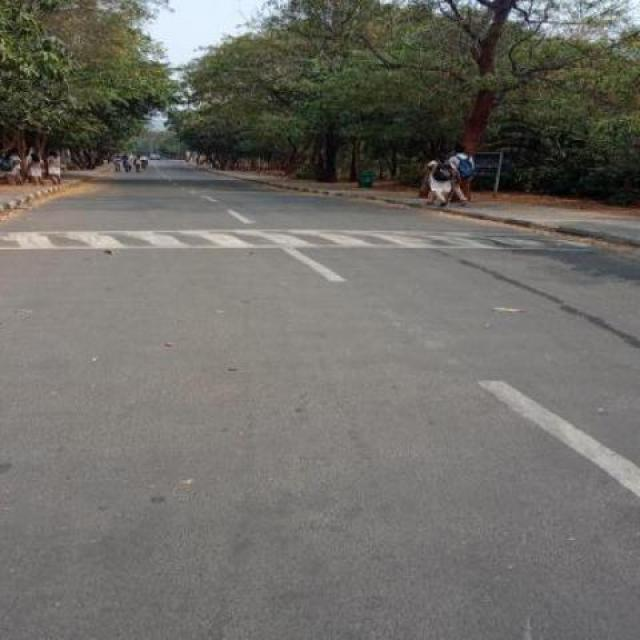Speed Bump: (0, 228, 615, 253)
